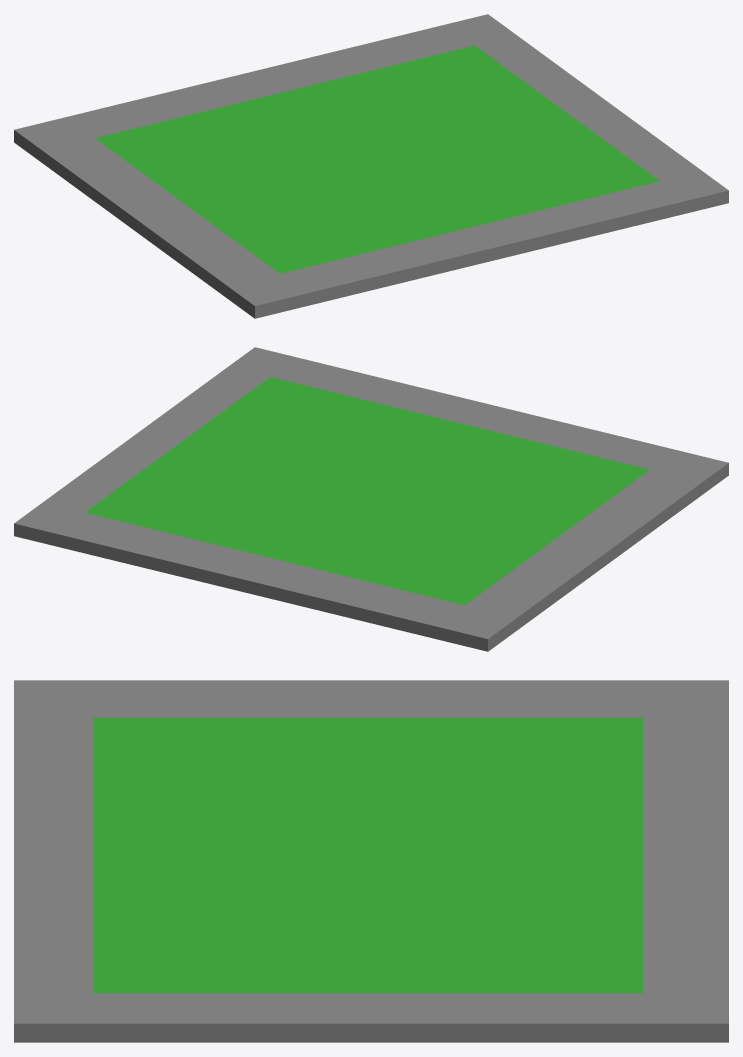
Rendered from SueloFuente.fbx.
3 renders of one model, top to bottom at view 1: azimuth 30°, elevation 25°; view 2: azimuth 150°, elevation 25°; view 3: azimuth 270°, elevation 25°, orthographic. The views are drawn at different scales.
Visible parts, largest first — view 1: SUELO1; view 2: SUELO1; view 3: SUELO1.
Part boxes in pixels (bbox=[...]): SUELO1: bbox=[14, 14, 728, 318]; SUELO1: bbox=[14, 347, 728, 651]; SUELO1: bbox=[14, 680, 728, 1042].
Bounding box in the file's own units: 58.06 × 1.48 × 51.11.
